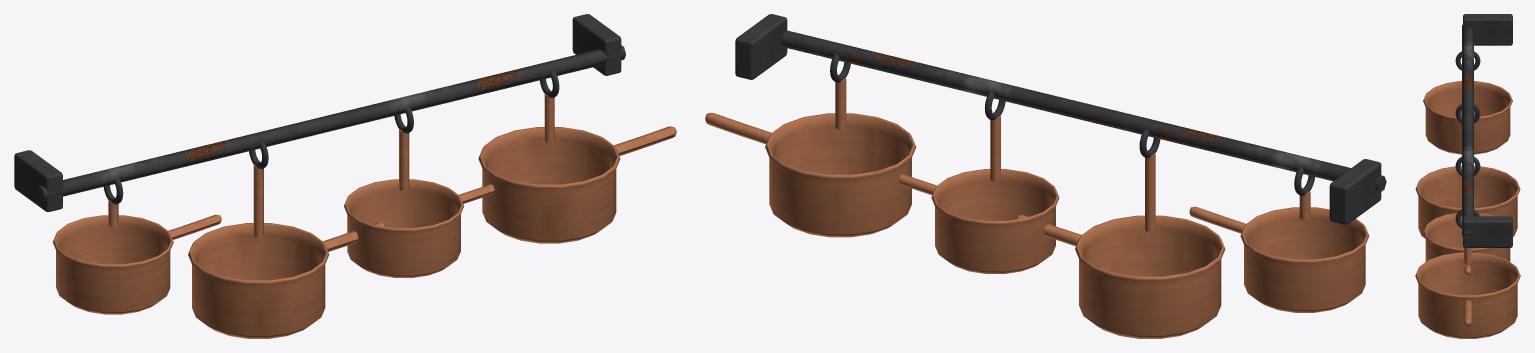
File: hangingPots.glb
3 views of the same model, side by side, from view 1: azimuth 30°, elevation 25°; view 2: azimuth 150°, elevation 25°; view 3: azimuth 270°, elevation 25° (orthographic). The views are drawn at different scales.
Visible parts, largest first — view 1: anim_swing_0; view 2: anim_swing_0; view 3: anim_swing_0.
Boxes of the visible parts, x1,y1,x2,y2 form: anim_swing_0: [14, 14, 676, 338]; anim_swing_0: [705, 14, 1386, 338]; anim_swing_0: [1415, 14, 1520, 338].
Size of the model in its own units: 1.09 by 0.3167 by 0.2117.
2 materials, 2 textured.
